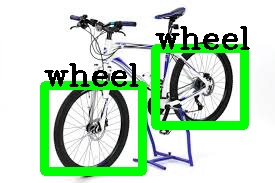wheel: (44, 85, 142, 171), (155, 48, 244, 125)
